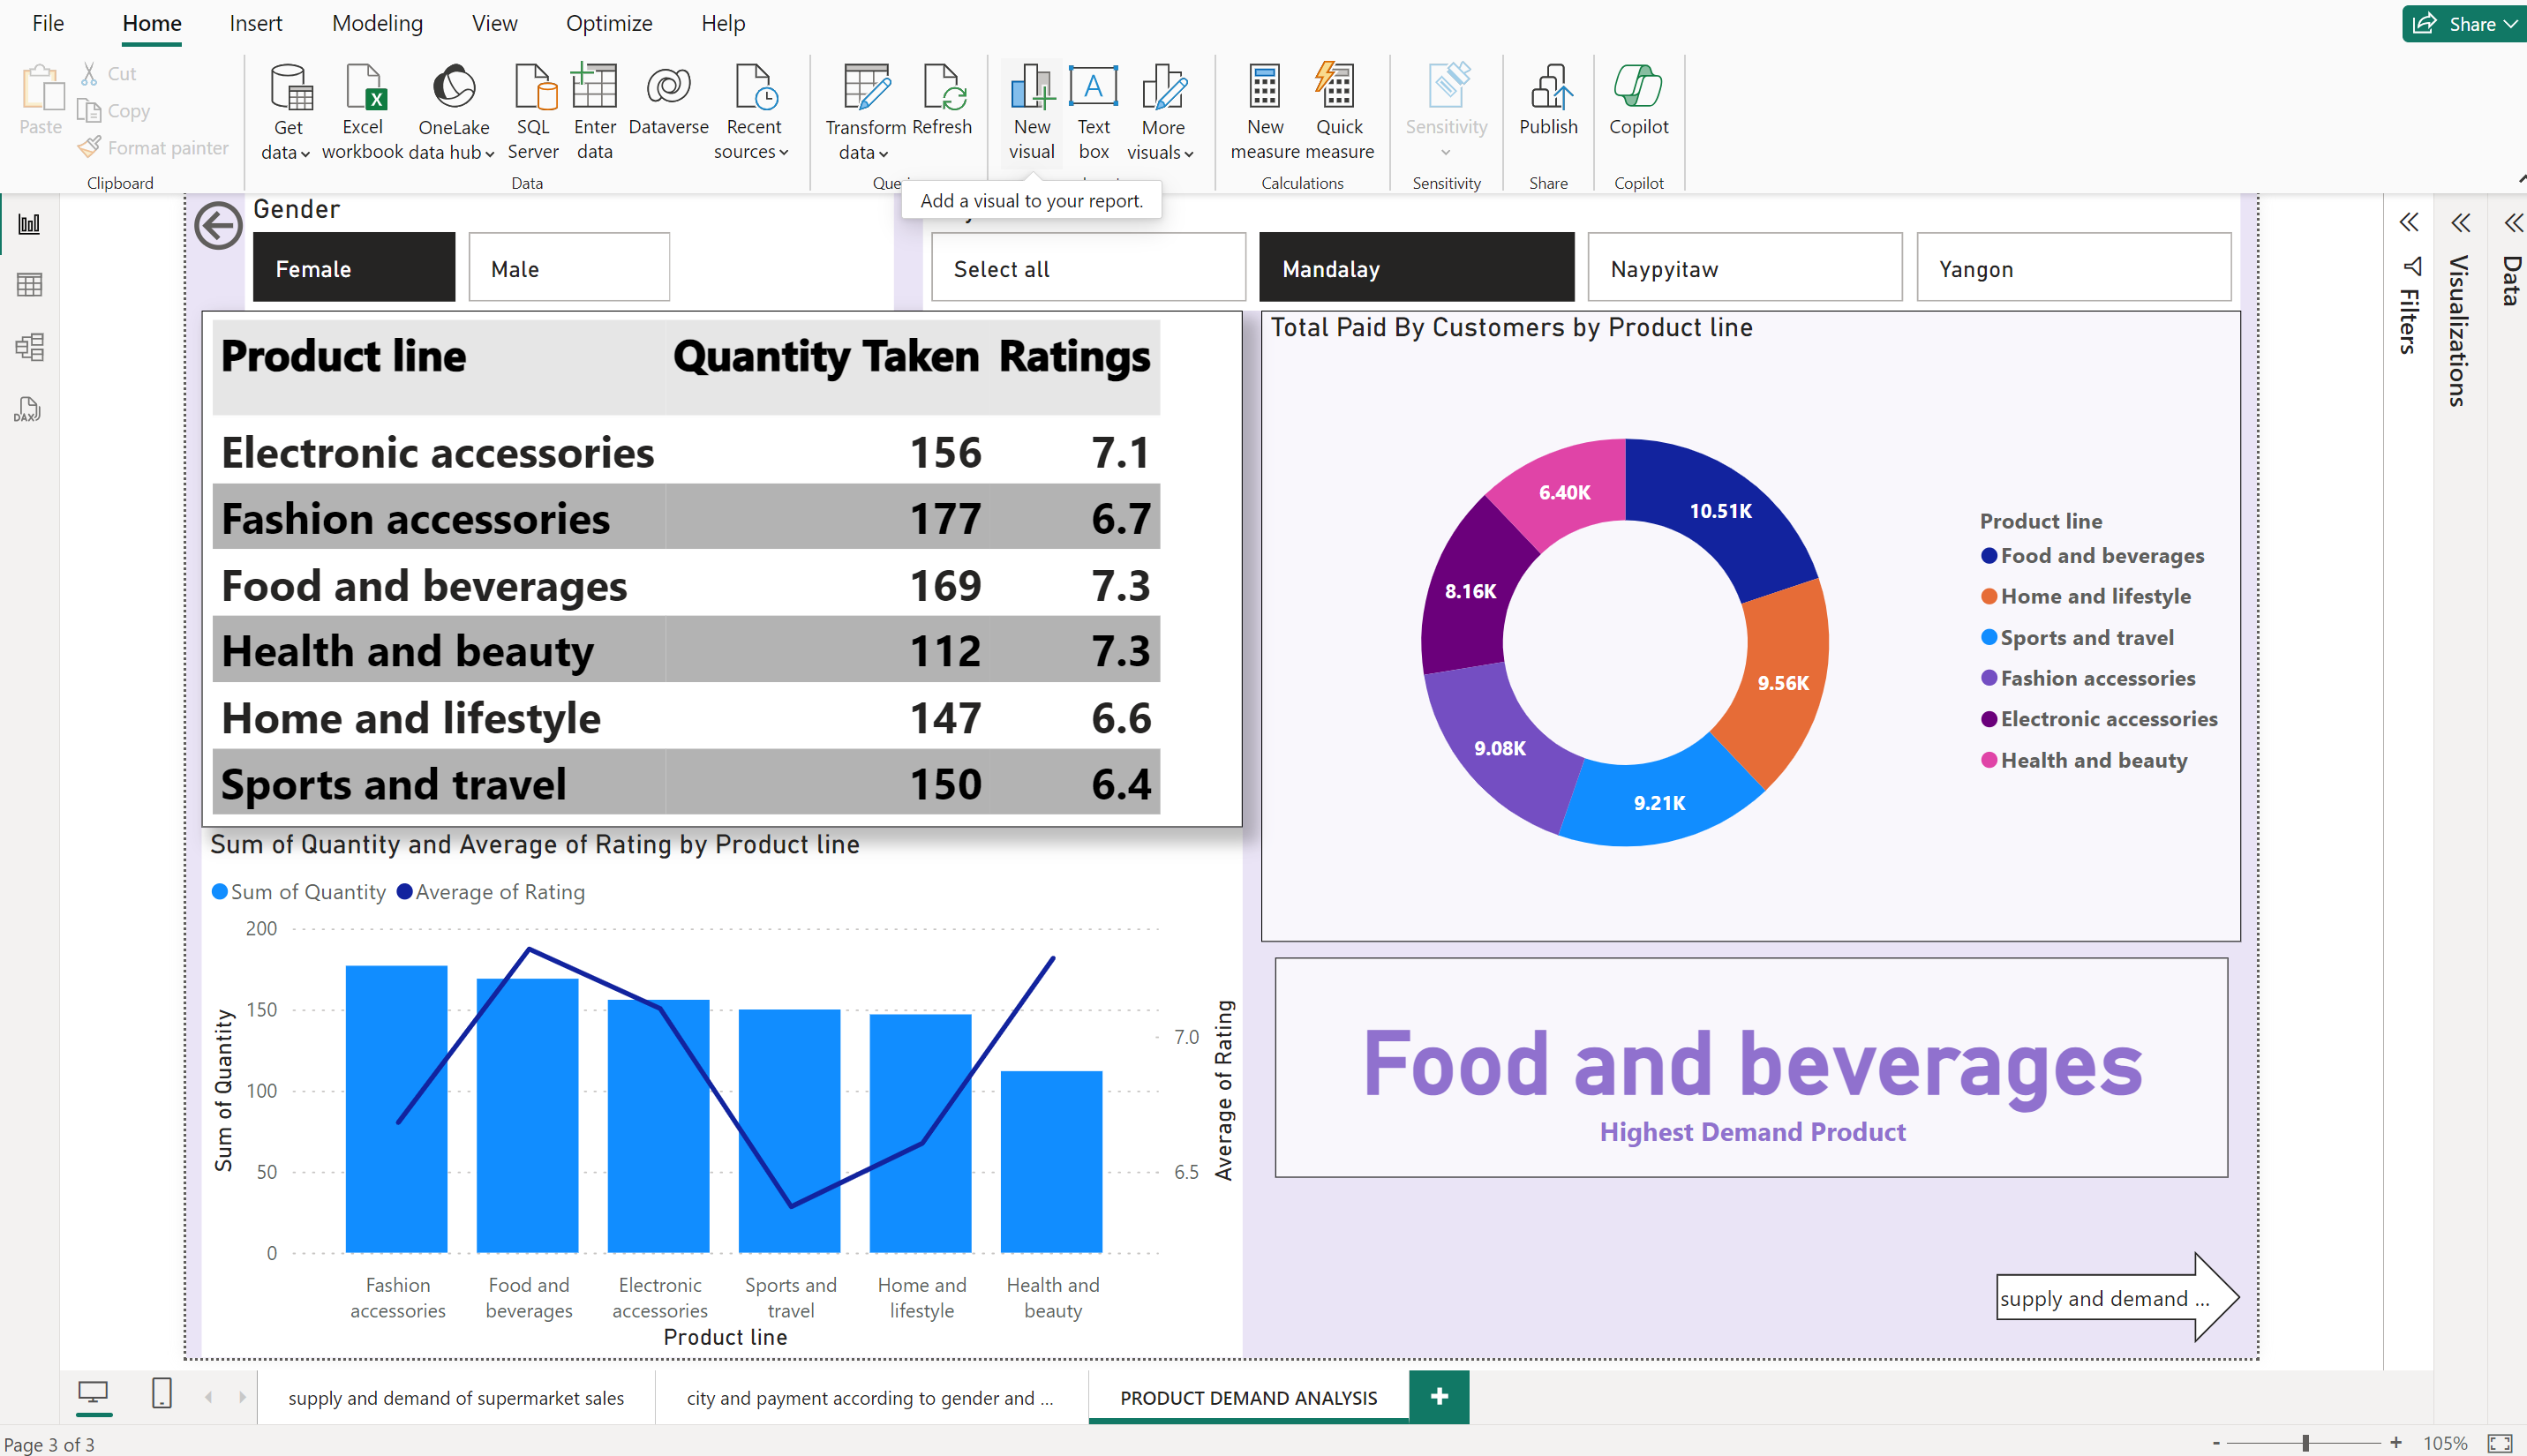

What the dashboard file says about the page in this screenshot:
{"tool":"powerbi","page":{"name":"PRODUCT DEMAND ANALYSIS","canvas":[1280,720],"ordinal":2},"visuals":[{"type":"lineClusteredColumnComboChart","fields":{"Category":["supermarket_sales.Product line"],"Y2":["Avg(supermarket_sales.Rating)"],"Y":["Sum(supermarket_sales.Quantity)"]},"box":[9.8,392.5,643.6,327.2],"z":0},{"type":"tableEx","fields":{"Values":["supermarket_sales.Product line","Sum(supermarket_sales.Quantity)","Avg(supermarket_sales.Rating)"]},"box":[9.8,72.8,643.6,319.6],"z":1000},{"type":"donutChart","fields":{"Category":["supermarket_sales.Product line"],"Y":["Sum(supermarket_sales.Total)"]},"box":[664.2,72.8,605.5,390.3],"z":2000},{"type":"card","fields":{"Values":["supermarket_sales.topproduct"]},"box":[672.9,472.9,589.2,135.9],"z":3000},{"type":"actionButton","box":[0,0,100,40],"z":4000},{"type":"advancedSlicerVisual","fields":{"Values":["supermarket_sales.City"]},"box":[455.5,0,814.3,72.8],"z":5000},{"type":"advancedSlicerVisual","fields":{"Values":["supermarket_sales.Gender"]},"box":[35.9,0,401.1,72.8],"z":6000},{"type":"pageNavigator","box":[1118.6,654.4,151.1,57.6],"z":7000}]}

Visuals, with their boxes on the page's 1280x720 design canvas (x1, y1, x2, y2). These are canvas units, not pixel positions in the 2527x1456 screenshot, which may show the page scaled, cropped or inside an application window:
lineClusteredColumnComboChart - supermarket_sales.Product line x Avg(supermarket_sales.Rating): (left=10, top=392, right=653, bottom=720)
tableEx - supermarket_sales.Product line x Sum(supermarket_sales.Quantity): (left=10, top=73, right=653, bottom=392)
donutChart - supermarket_sales.Product line x Sum(supermarket_sales.Total): (left=664, top=73, right=1270, bottom=463)
card - supermarket_sales.topproduct: (left=673, top=473, right=1262, bottom=609)
actionButton: (left=0, top=0, right=100, bottom=40)
advancedSlicerVisual - supermarket_sales.City: (left=456, top=0, right=1270, bottom=73)
advancedSlicerVisual - supermarket_sales.Gender: (left=36, top=0, right=437, bottom=73)
pageNavigator: (left=1119, top=654, right=1270, bottom=712)
